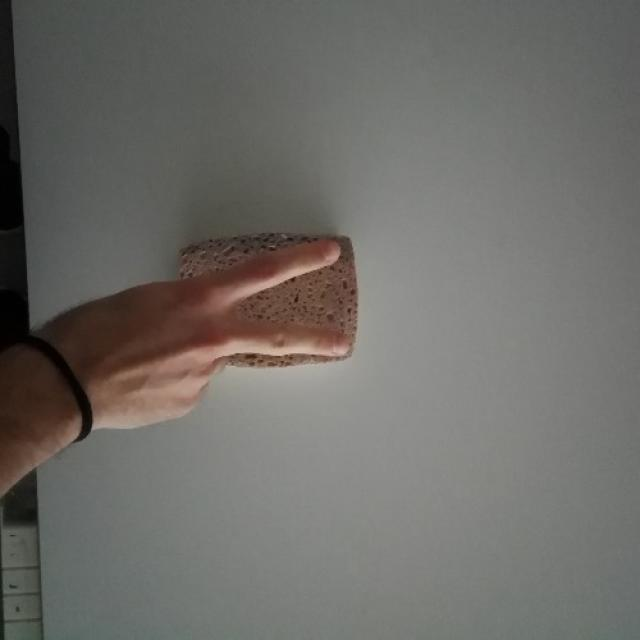scissors: (66, 235, 358, 434)
